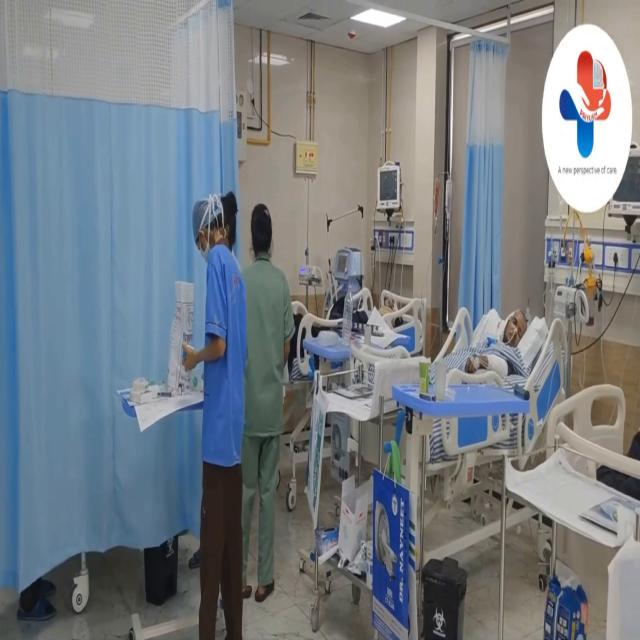Movement-NO: (467, 278, 541, 402)
